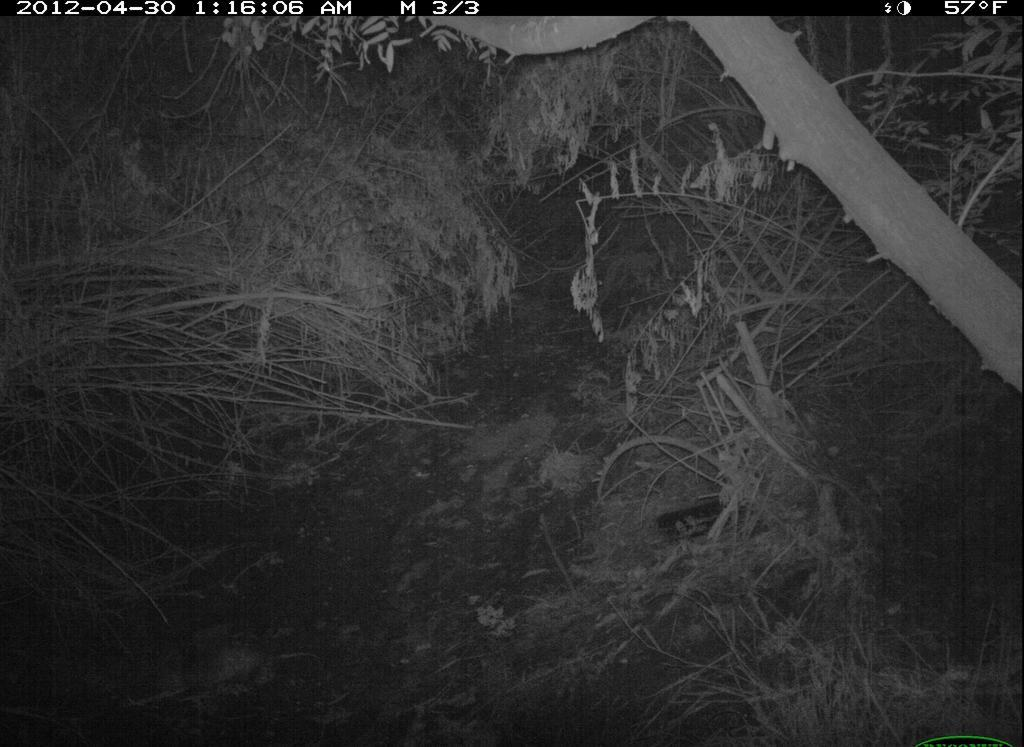opossum: (150, 617, 324, 706)
